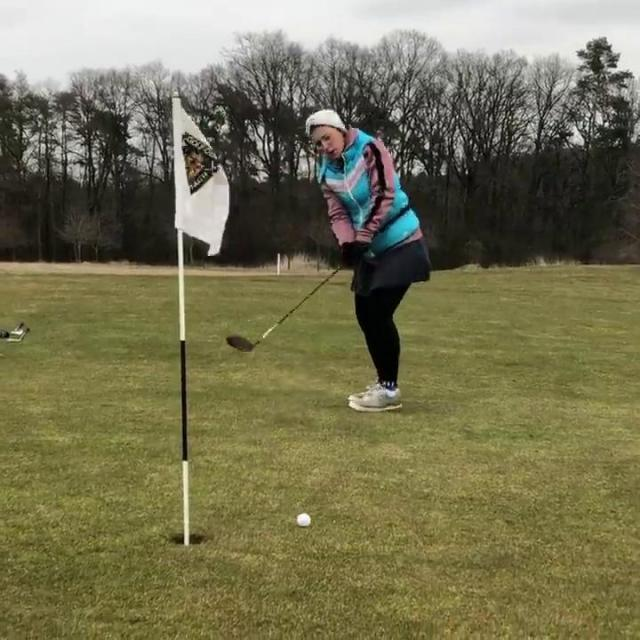golf ball: (297, 513, 311, 527)
golf club-handle: (227, 202, 414, 353)
golf club-head: (227, 335, 254, 353)
